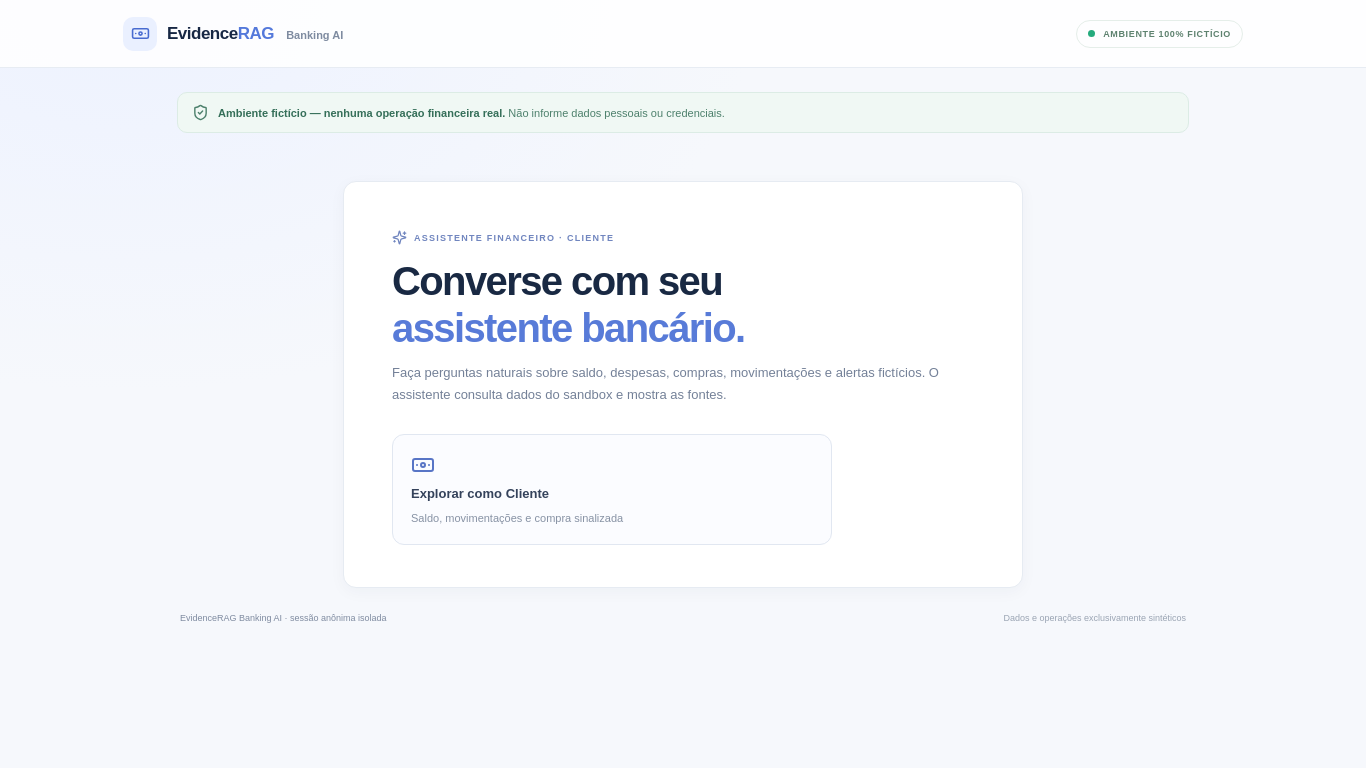
Scenario: BankingDemo › explains when a local token admission limit prevented the provider call
Click the button "Explorar como Cliente" at (480, 493), box x1=392 y1=434 x2=832 y2=545
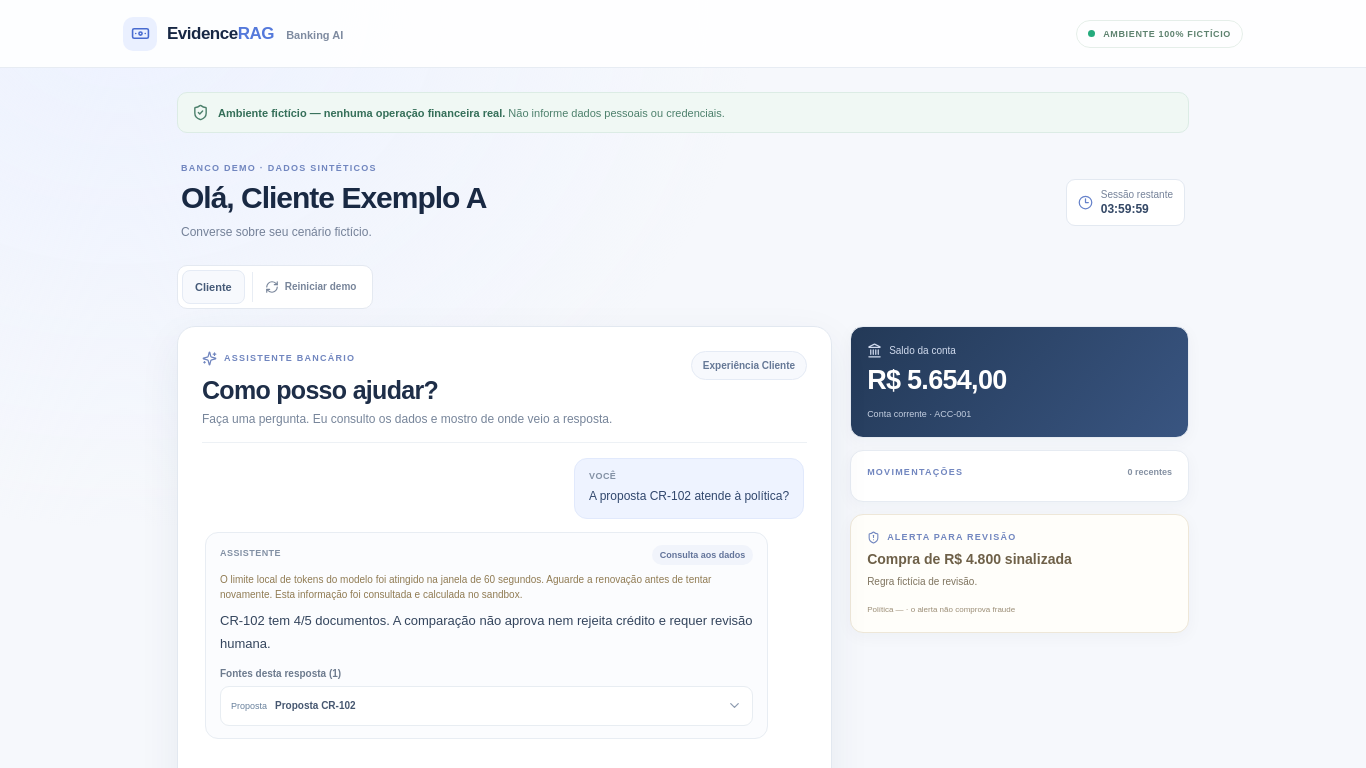
Result: the text "O limite local de tokens do modelo foi atingido na janela de 60 segundos" is shown at x1=220 y1=574 x2=714 y2=600
